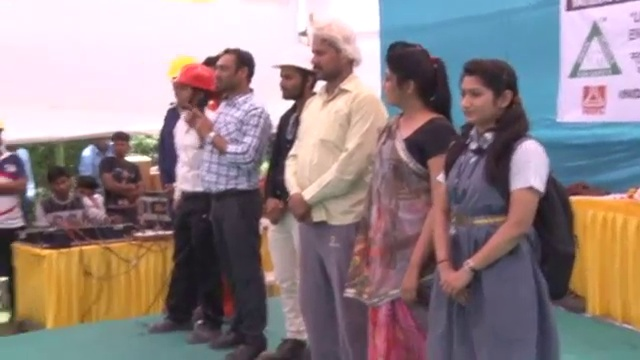helmet: (158, 61, 223, 94)
helmet_off: (454, 56, 526, 134), (375, 47, 436, 121), (303, 22, 364, 87), (204, 50, 257, 96), (45, 166, 73, 198), (73, 174, 99, 202), (111, 131, 130, 160), (92, 135, 112, 155)
helmet_on: (160, 63, 222, 119), (268, 49, 312, 103)
person: (426, 35, 580, 360), (286, 21, 383, 360), (369, 41, 454, 344), (193, 48, 272, 360), (143, 63, 223, 349), (261, 47, 318, 360), (0, 121, 29, 323), (36, 165, 103, 235), (99, 133, 142, 224), (79, 134, 111, 186), (269, 48, 314, 78)
